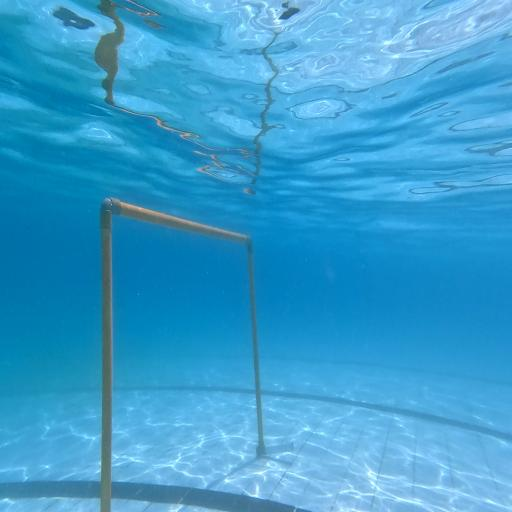gate: (101, 196, 294, 512)
